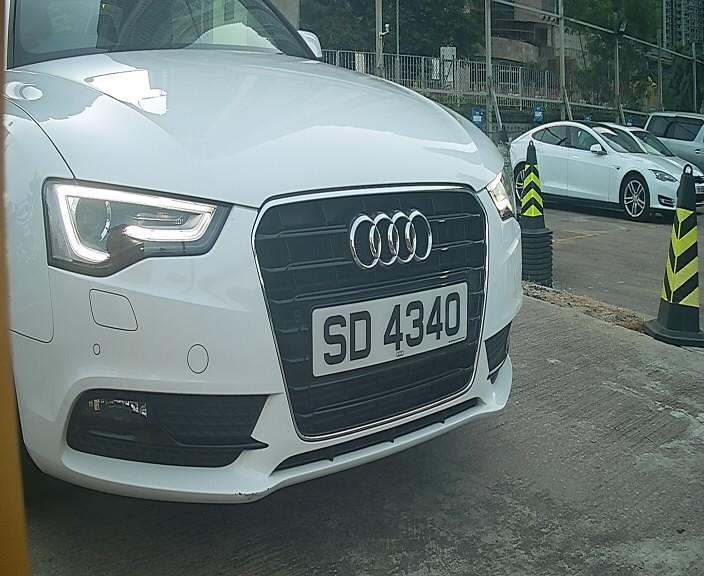License Plate: (294, 262, 484, 389)
